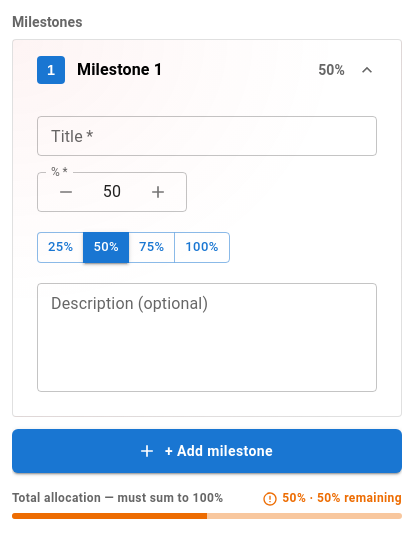
Test: MilestoneEditor › updates the title field and reflects it in the collapsed-header preview
In the field labelled "Title *": (207, 136) [37,116,377,156], type "Kickoff payment"
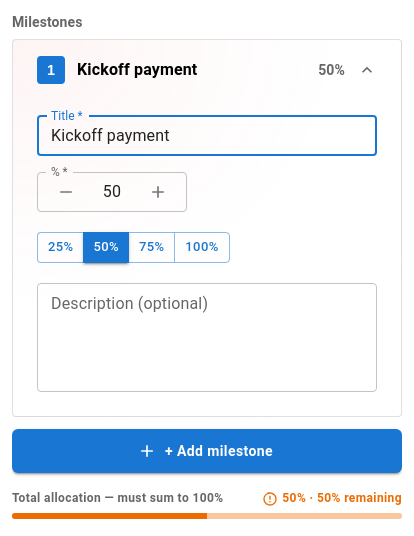
Check: the text "Kickoff payment" is shown, box [77,60,197,79]
